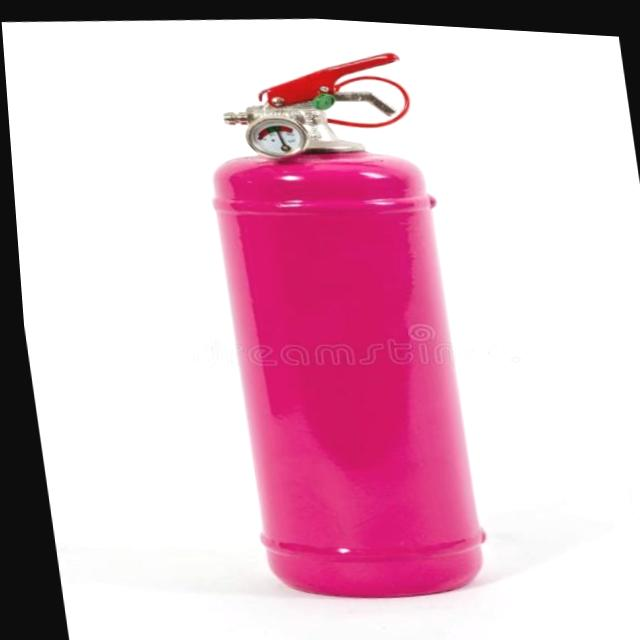FireExtinguisher: (176, 33, 495, 612)
